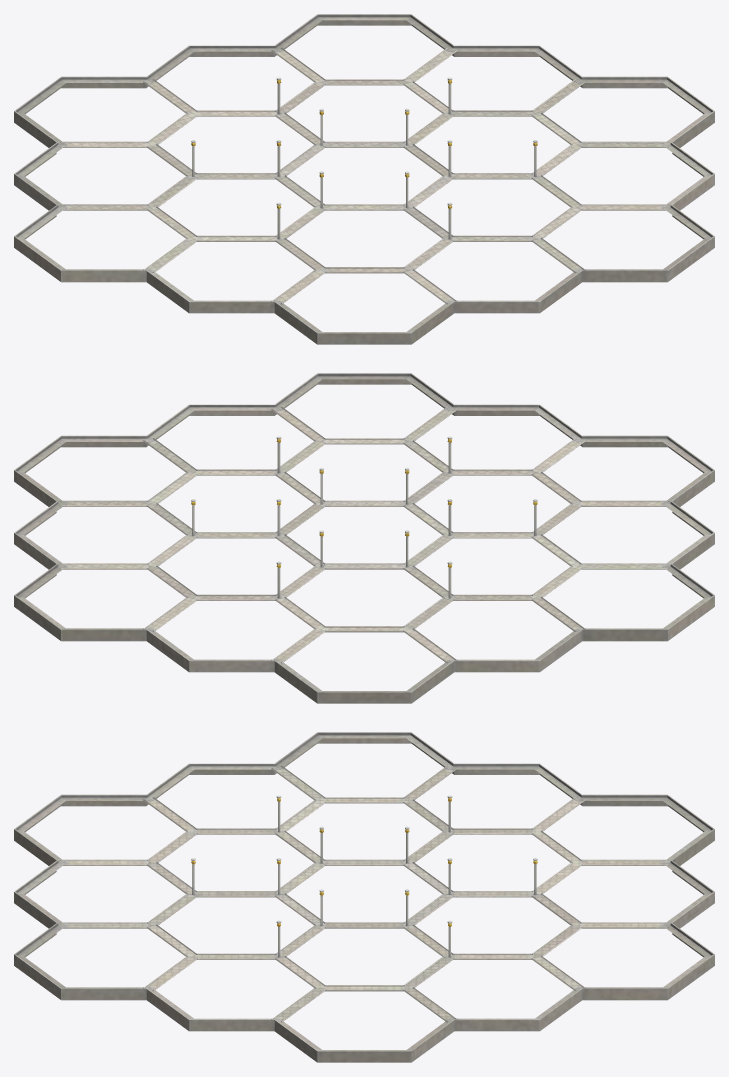
Rendered from ground-25.glb.
3 renders of one model, top to bottom at view 1: azimuth 30°, elevation 25°; view 2: azimuth 150°, elevation 25°; view 3: azimuth 270°, elevation 25°, orthographic.
Visible parts, largest first — view 1: ground-25; view 2: ground-25; view 3: ground-25.
Part boxes in pixels (left/top/right/bottom): ground-25: left=14, top=14, right=714, bottom=344; ground-25: left=14, top=373, right=714, bottom=703; ground-25: left=14, top=732, right=714, bottom=1062.
Bounding box in the file's own units: 10.2 × 0.6599 × 9.47.
1 material, 1 textured.
